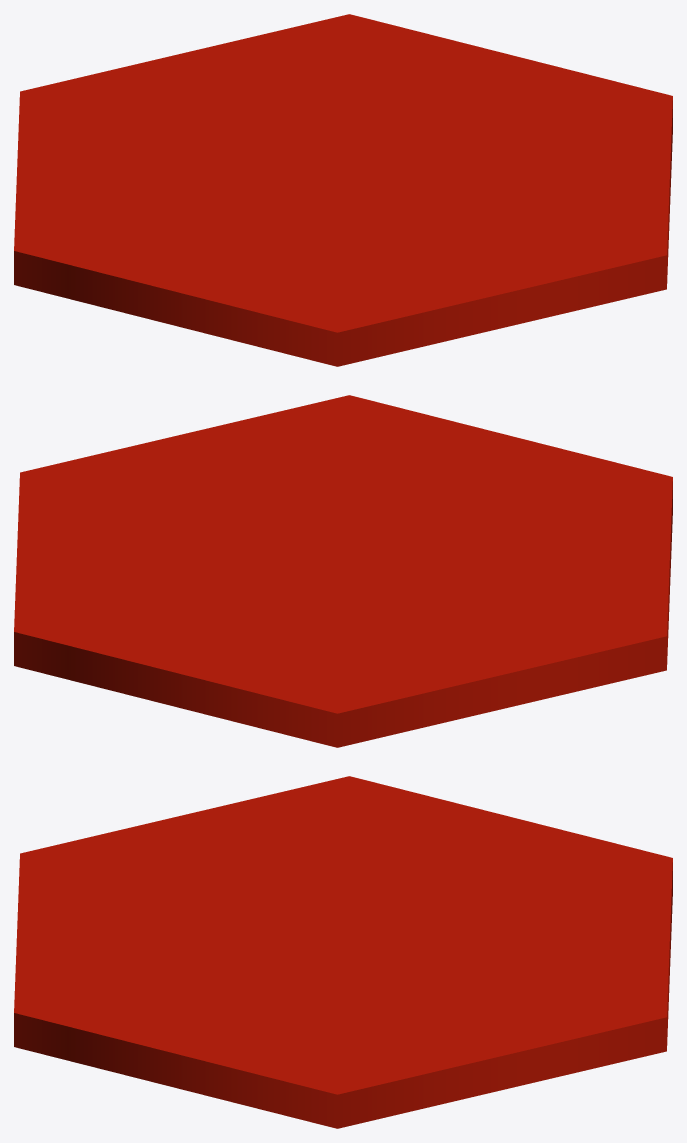
File: (RED) Slot Base.FBX
The picture shows the model from 3 angles, top to bottom: view 1: azimuth 30°, elevation 25°; view 2: azimuth 150°, elevation 25°; view 3: azimuth 270°, elevation 25°; orthographic projection.
Parts seen in each view (by area): view 1: Building Base; view 2: Building Base; view 3: Building Base.
Part boxes in pixels (box(x1,y1,x2,y2)): Building Base: box(14, 14, 672, 366); Building Base: box(14, 395, 672, 747); Building Base: box(14, 776, 672, 1128).
Size of the model in its own units: 62.98 by 3.15 by 55.05.
